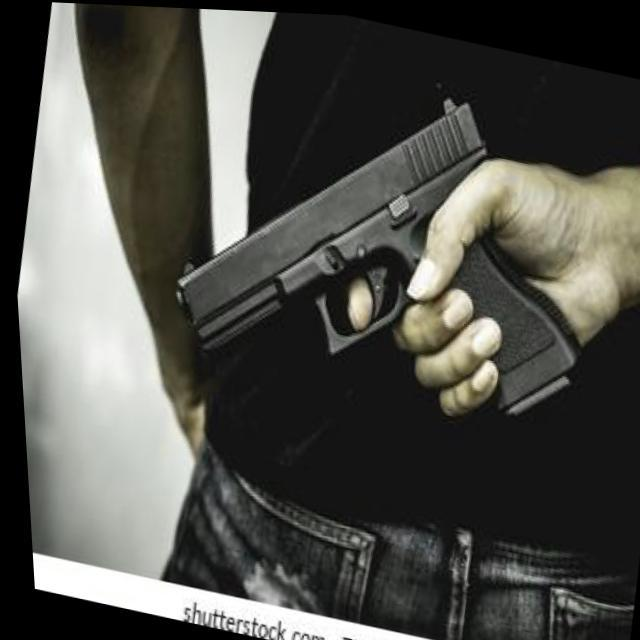weapon: (140, 26, 630, 458)
